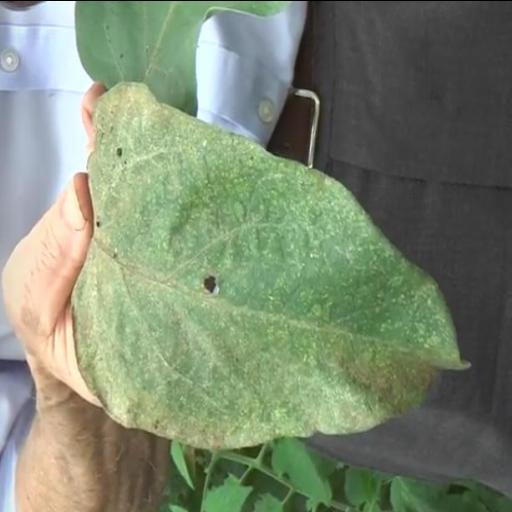disease_tomato: (71, 77, 473, 450)
